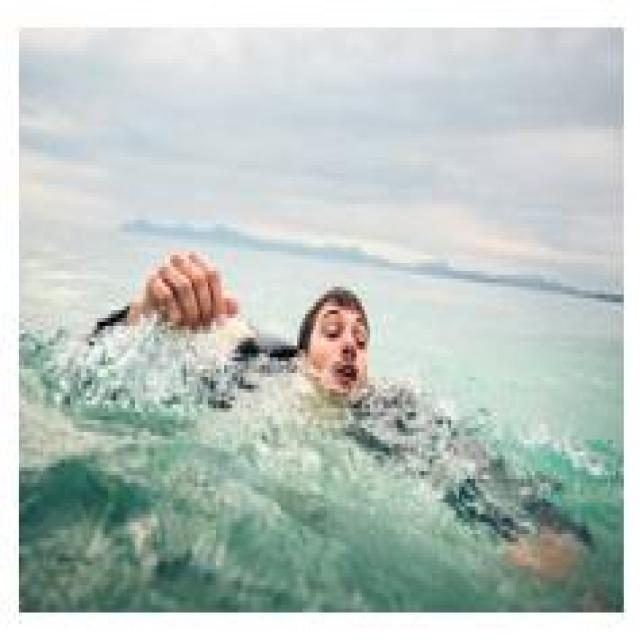Out of Water: (87, 236, 376, 428)
